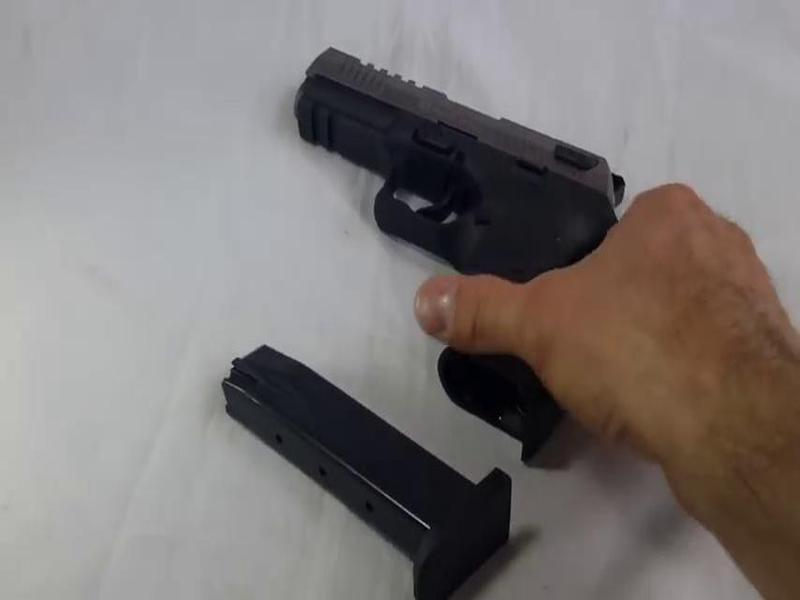Pistola: (284, 44, 615, 441)
